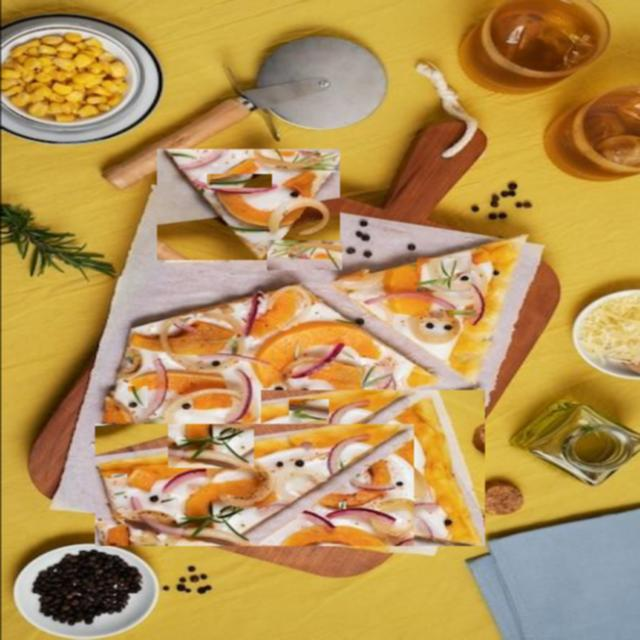basil: (0, 198, 117, 287), (167, 424, 253, 468), (266, 241, 341, 270), (416, 258, 470, 292), (288, 399, 328, 424), (206, 175, 271, 188), (359, 366, 392, 389), (222, 336, 248, 357), (127, 386, 147, 408), (440, 310, 474, 318), (110, 474, 126, 478), (336, 502, 344, 509)
pizza: (94, 284, 439, 446), (94, 424, 413, 546), (260, 390, 484, 546), (330, 232, 530, 372), (156, 150, 339, 262)
